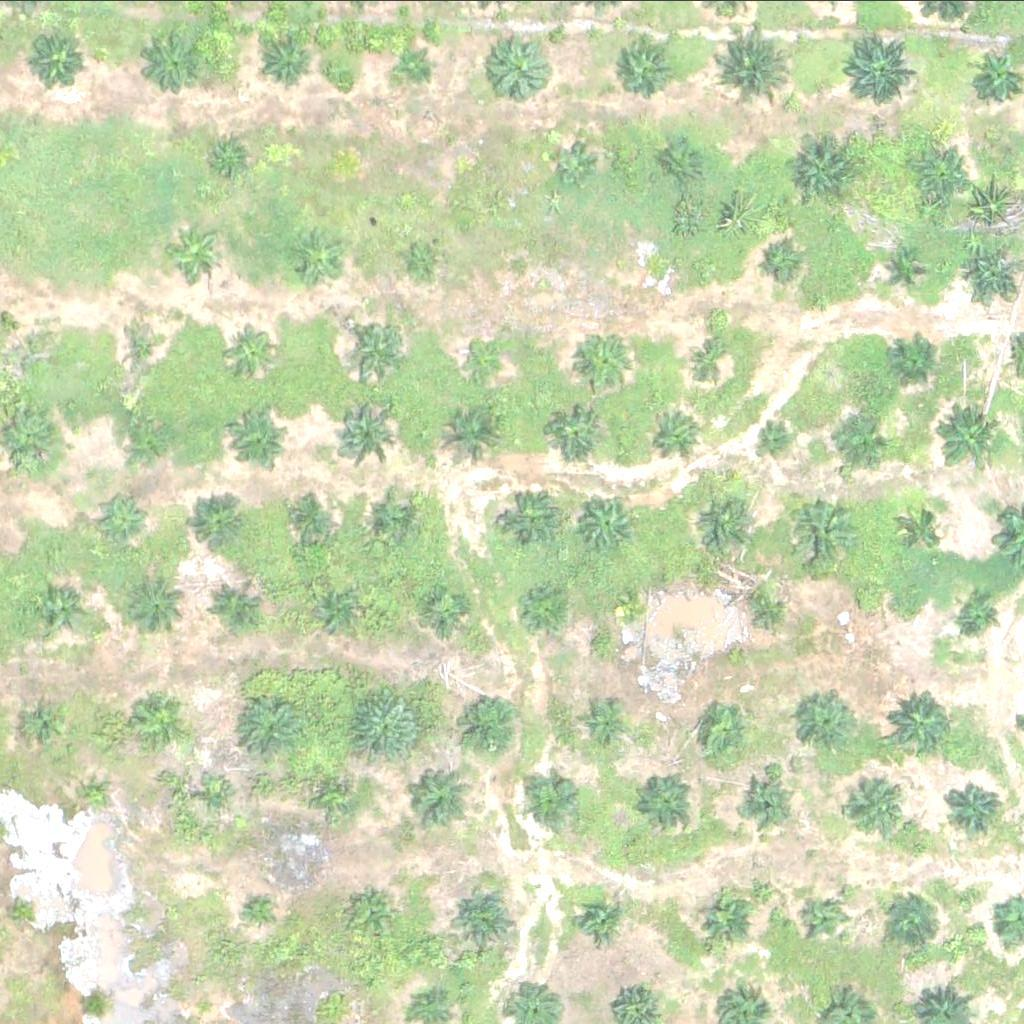Kelapa_Sawit: (233, 691, 309, 766), (451, 687, 527, 762), (777, 492, 853, 567), (347, 687, 423, 762), (720, 33, 795, 108), (834, 31, 909, 106), (956, 244, 1019, 307), (484, 39, 547, 102), (406, 770, 469, 833), (288, 228, 351, 291), (502, 485, 565, 548), (452, 885, 515, 948), (126, 569, 189, 632), (165, 221, 228, 284), (195, 490, 258, 553), (233, 407, 296, 469), (938, 409, 1001, 471), (886, 692, 949, 754), (794, 141, 857, 203), (611, 39, 674, 101), (849, 774, 912, 836), (694, 494, 757, 556), (446, 406, 509, 468), (347, 319, 410, 381), (330, 403, 393, 465), (796, 695, 859, 757), (143, 34, 206, 96), (26, 30, 89, 92), (691, 888, 754, 950), (581, 489, 643, 551), (226, 325, 277, 375), (921, 151, 972, 201), (972, 56, 1023, 106), (264, 40, 315, 90), (888, 893, 939, 943), (576, 896, 627, 946), (120, 321, 171, 371), (118, 409, 169, 459), (95, 491, 146, 541), (37, 583, 88, 633), (953, 782, 1003, 832), (737, 775, 787, 825), (531, 772, 581, 822), (641, 776, 691, 826), (514, 586, 564, 636), (418, 587, 468, 637), (549, 405, 599, 455), (581, 335, 631, 385), (844, 422, 894, 472), (697, 709, 747, 759), (139, 694, 189, 744), (891, 336, 941, 386), (900, 505, 950, 555), (957, 590, 1007, 640), (740, 582, 790, 632), (284, 493, 334, 543), (368, 491, 418, 541), (304, 585, 354, 635), (209, 580, 259, 630), (22, 698, 72, 748), (653, 410, 703, 460), (587, 706, 625, 744), (755, 419, 793, 457), (214, 138, 252, 176), (466, 342, 504, 380), (649, 244, 687, 282), (691, 338, 729, 376), (665, 140, 703, 177), (360, 889, 398, 926), (887, 254, 925, 291), (763, 239, 800, 277), (804, 900, 842, 937), (397, 48, 435, 85), (403, 240, 440, 277), (553, 145, 590, 182), (324, 779, 350, 804), (79, 786, 104, 811), (207, 781, 232, 806), (250, 898, 275, 923), (6, 898, 31, 923), (615, 598, 640, 623), (850, 591, 875, 616), (195, 992, 220, 1017)
